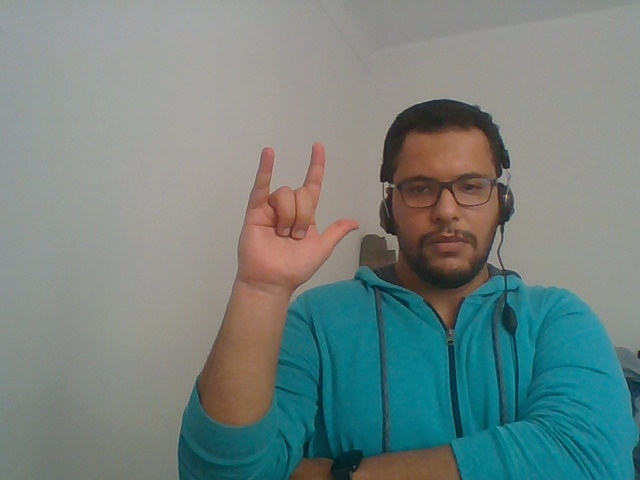iloveyou: (208, 126, 367, 336)
